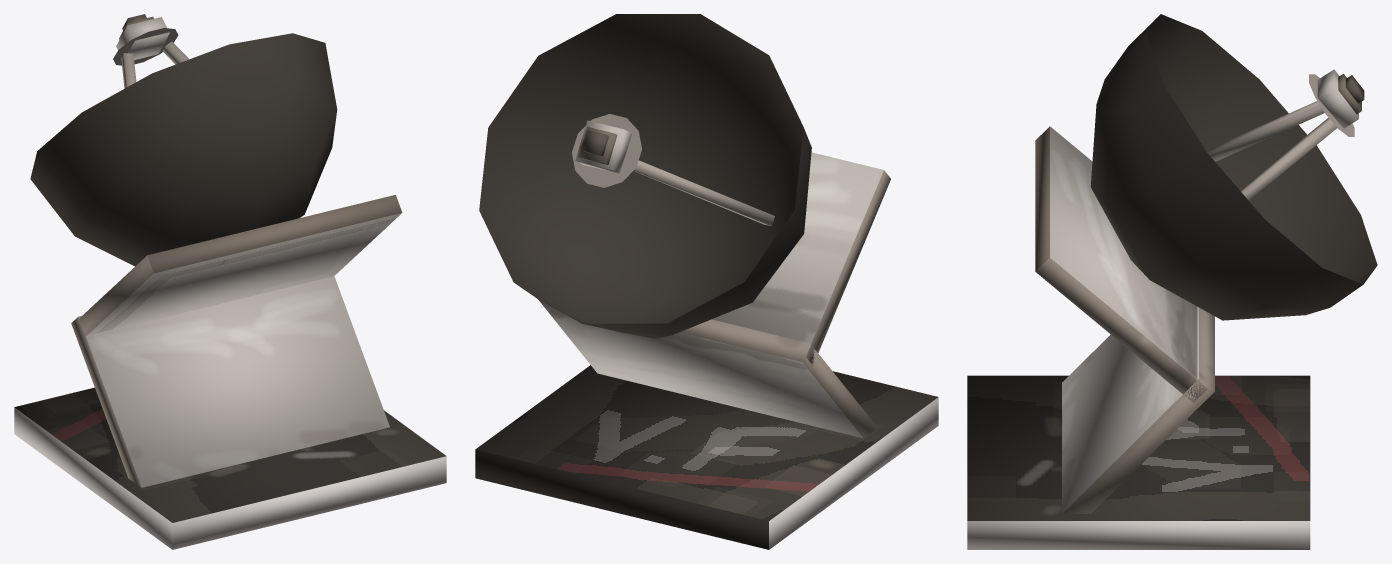
Rendered from Antena.gltf.
The picture shows the model from 3 angles, left to right: view 1: azimuth 30°, elevation 25°; view 2: azimuth 150°, elevation 25°; view 3: azimuth 270°, elevation 25°; orthographic projection. The views are drawn at different scales.
Visible parts, largest first — view 1: sphere, suporte_1_antena, base_antena, suporte_2_antena, transmissor, circle; view 2: sphere, base_antena, suporte_1_antena, suporte_2_antena, circle, paozinho_02, transmissor, transmissor_02; view 3: sphere, base_antena, suporte_2_antena, suporte_1_antena, paozinho_02, paozinho, transmissor.
Boxes of the visible parts, x1,y1,x2,y2 form: sphere: (30, 33, 337, 266); suporte_1_antena: (71, 276, 389, 487); base_antena: (14, 387, 446, 549); suporte_2_antena: (79, 195, 402, 336); transmissor: (116, 17, 169, 59); circle: (113, 28, 178, 65); sphere: (479, 14, 811, 338); base_antena: (475, 365, 938, 549); suporte_1_antena: (538, 299, 877, 438); suporte_2_antena: (712, 152, 890, 365); circle: (572, 114, 641, 187); paozinho_02: (633, 160, 774, 225); transmissor: (575, 120, 631, 173); transmissor_02: (578, 127, 617, 164); sphere: (1090, 14, 1377, 320); base_antena: (967, 375, 1310, 549); suporte_2_antena: (1035, 126, 1207, 402); suporte_1_antena: (1062, 307, 1214, 513); paozinho_02: (1206, 101, 1324, 161); paozinho: (1240, 117, 1336, 200); transmissor: (1317, 69, 1358, 128).
Bounding box in the file's own units: 0.0647 × 0.0895 × 0.0748.
1 material, 1 textured.
